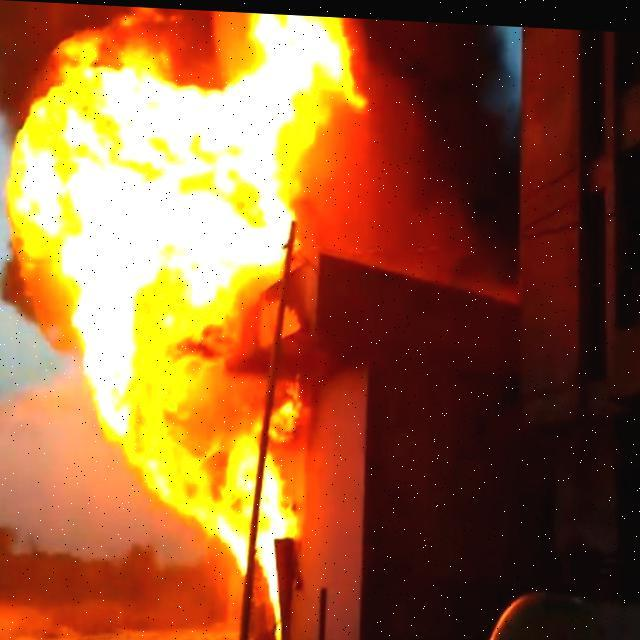Fire: (7, 8, 368, 639)
